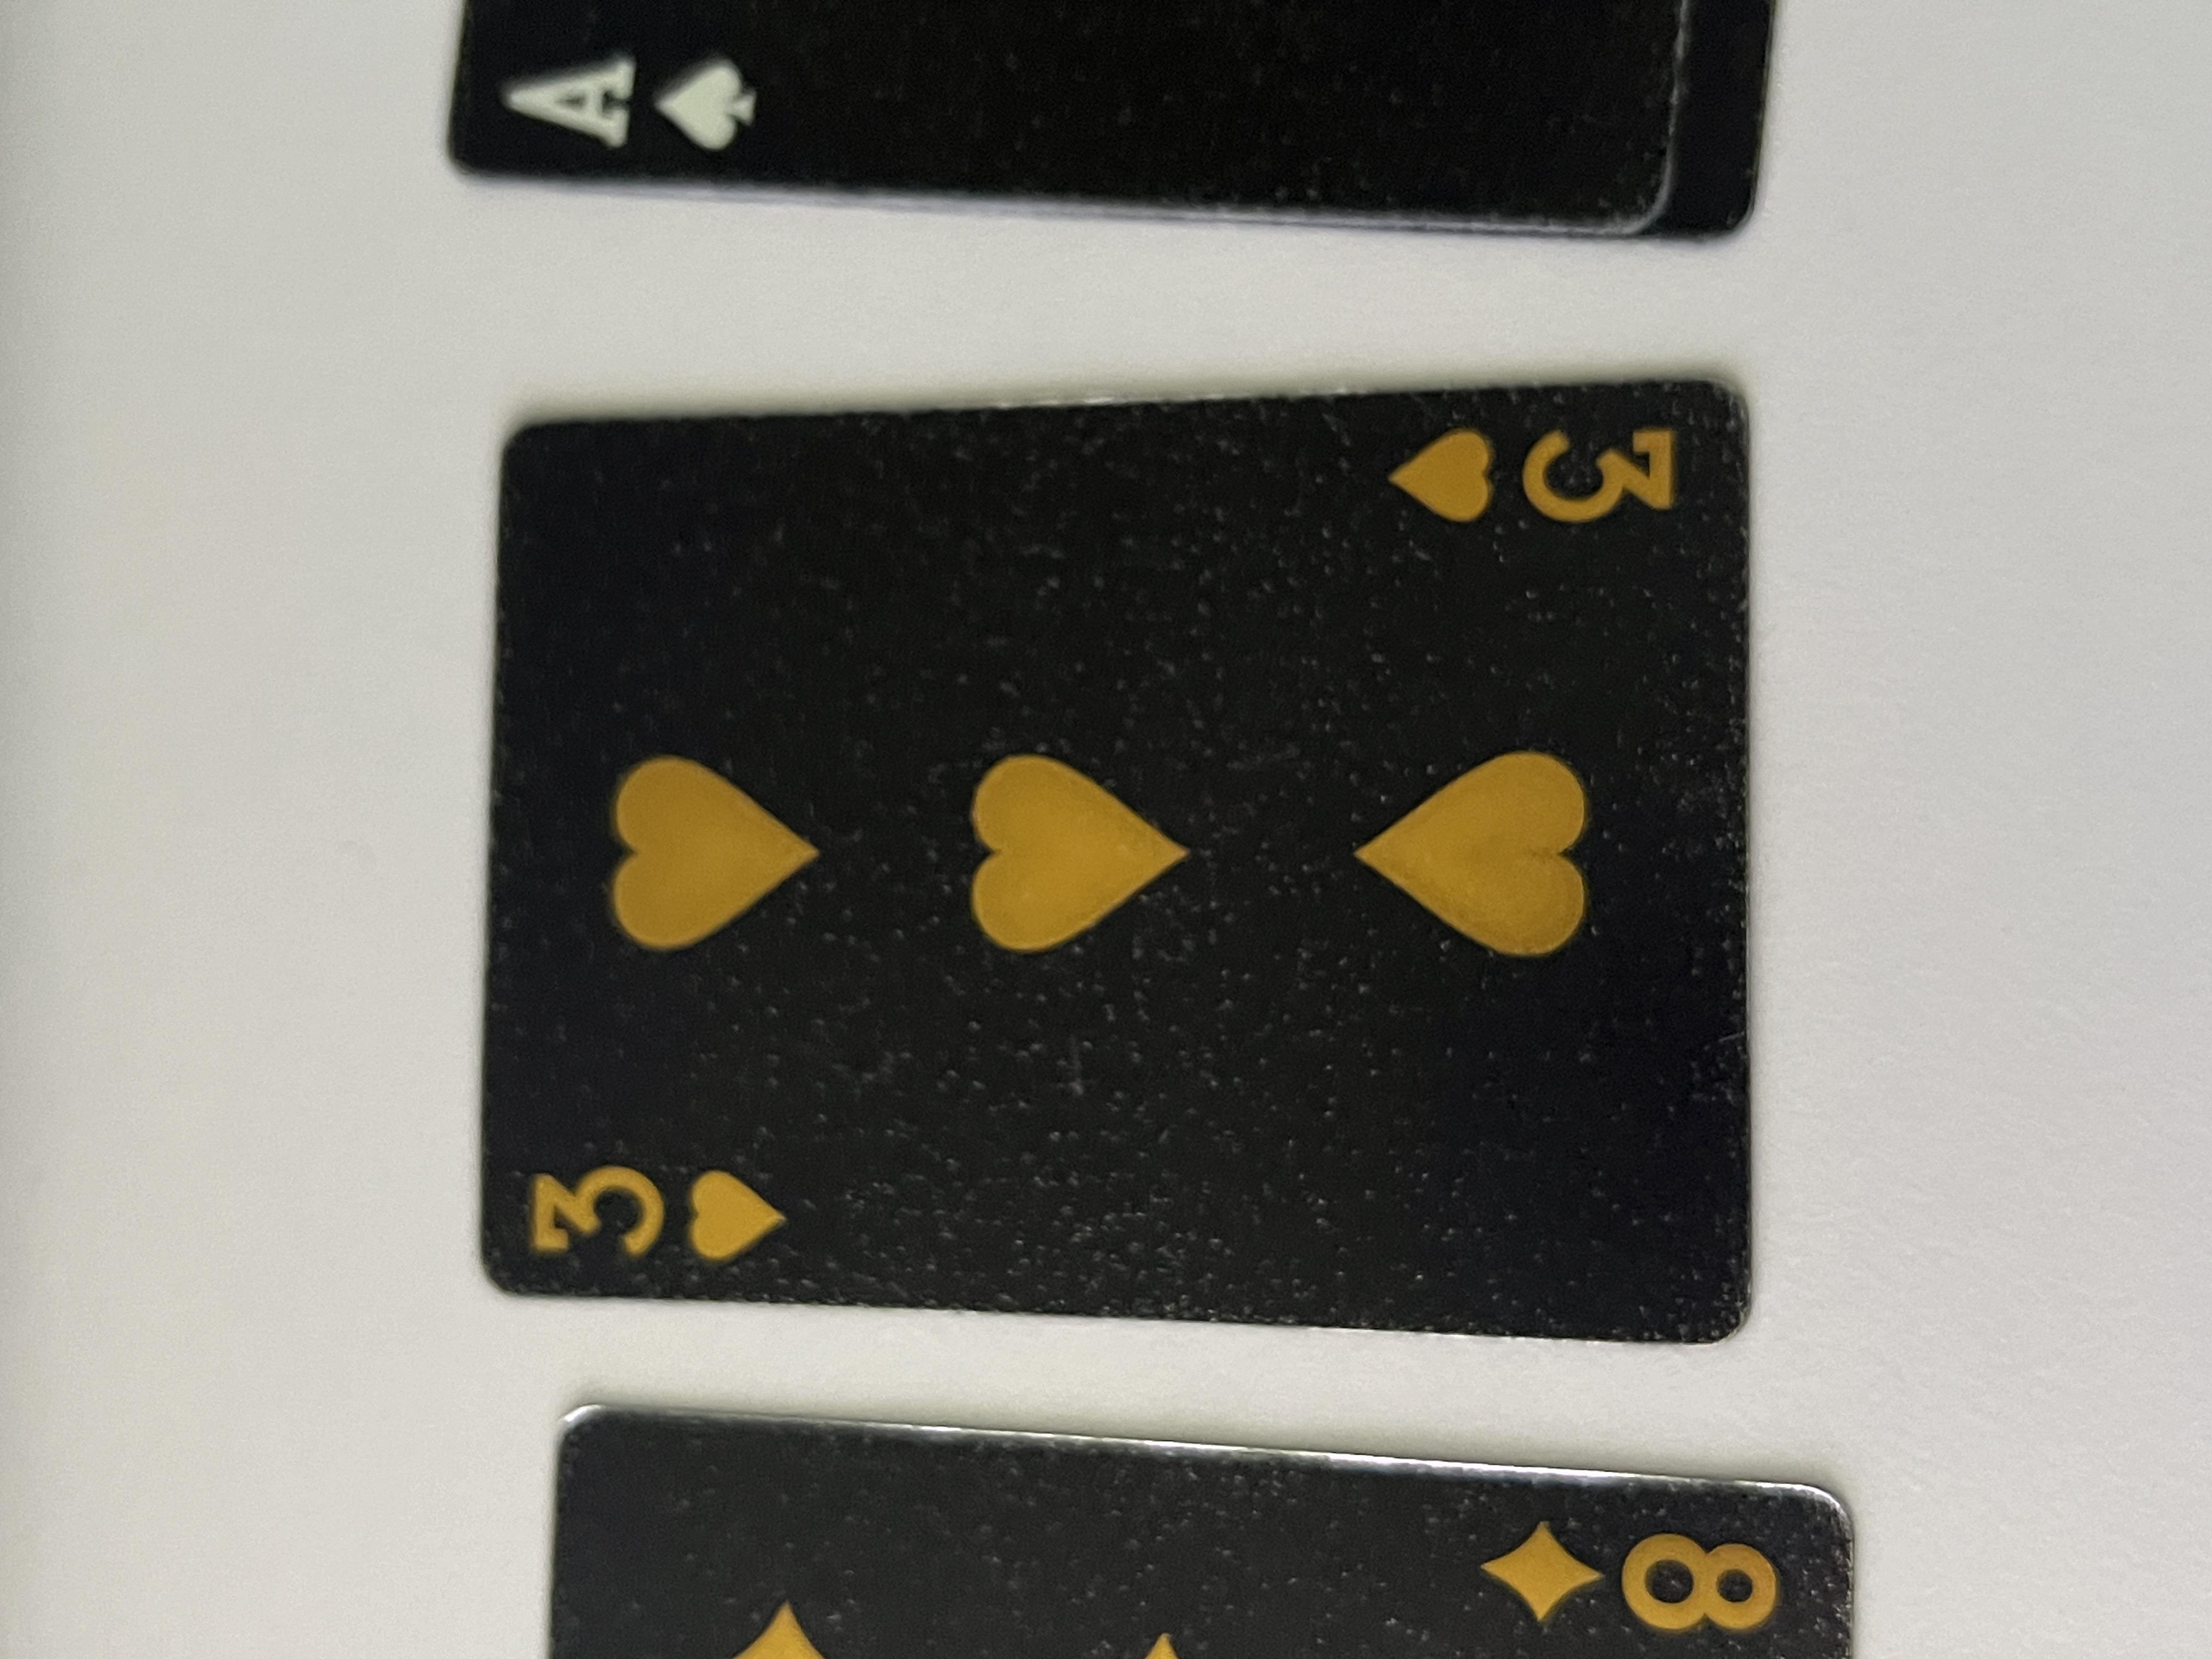3H: (1489, 1025, 1696, 1279), (519, 364, 705, 608)
4S: (1986, 364, 2155, 591)
8D: (10, 1094, 206, 1349)
